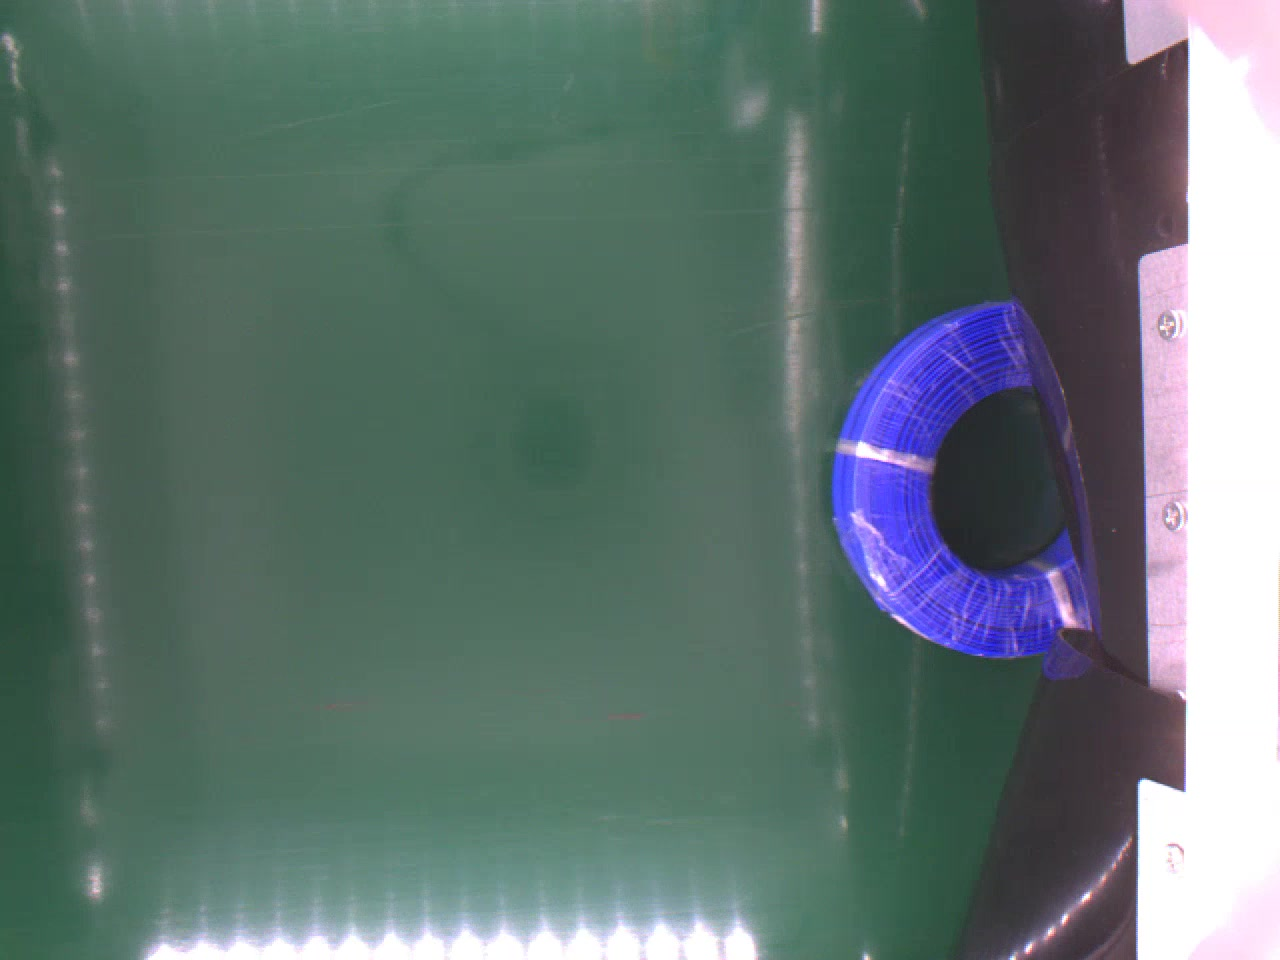blue: (828, 302, 1085, 659)
